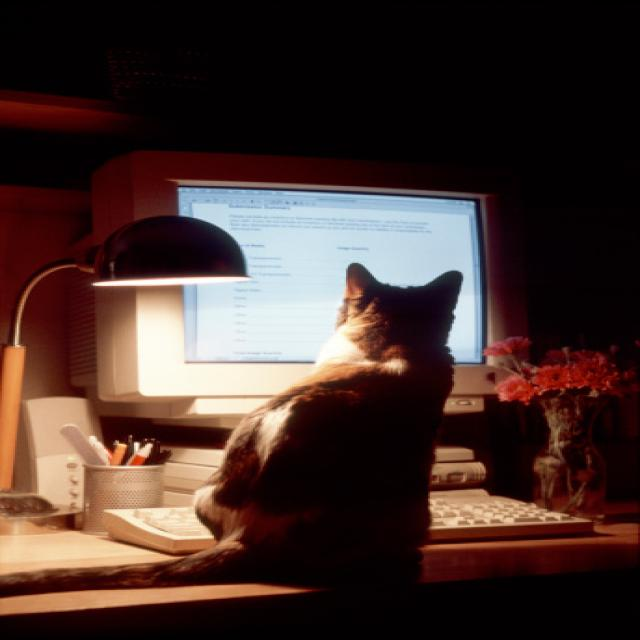Cat: (172, 252, 475, 596)
Table: (0, 442, 629, 640)
